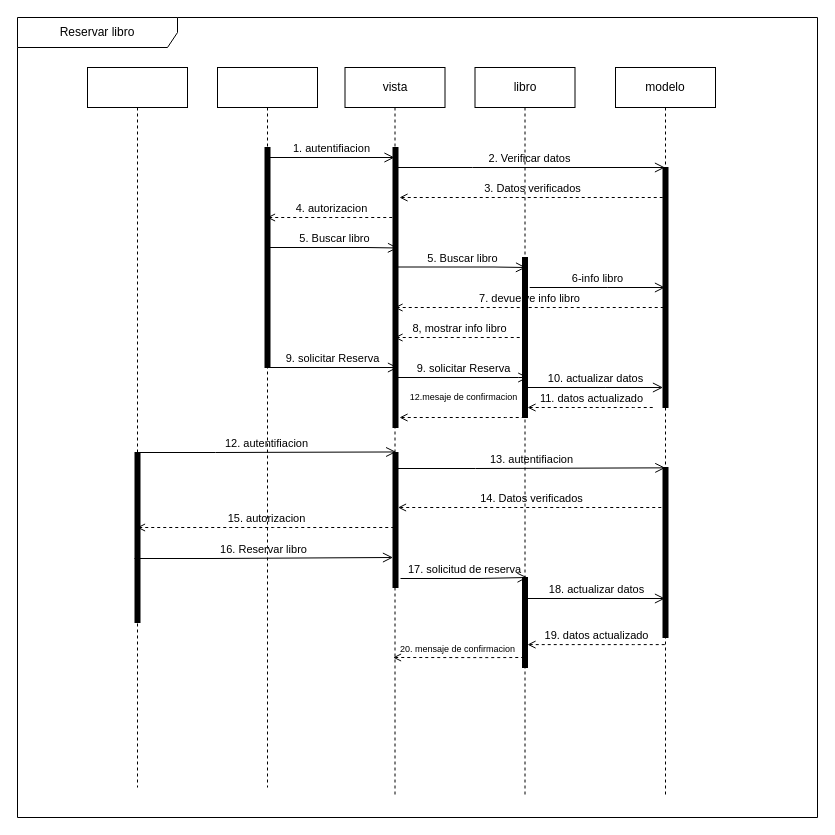
Image size: 835x835. Some labels were removed from this diagram. Each missing label, with the box of its shape:
Bibliotecario: (86, 66, 188, 788)
Usuario: (216, 66, 318, 788)
